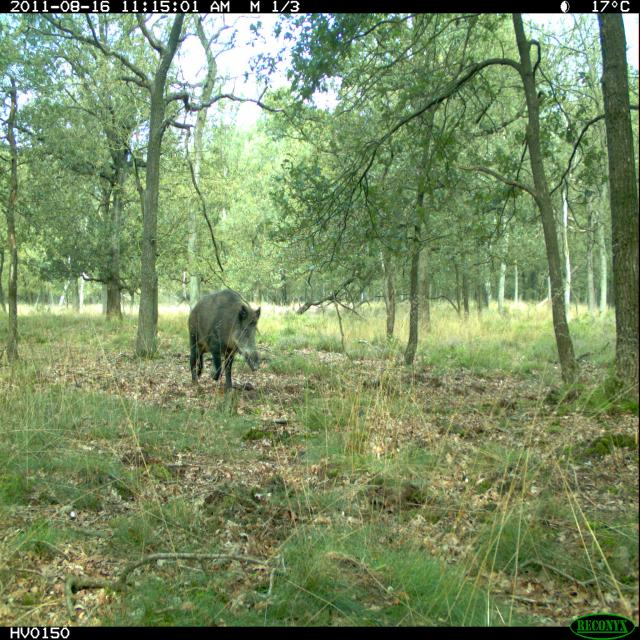boar: (164, 261, 284, 400)
